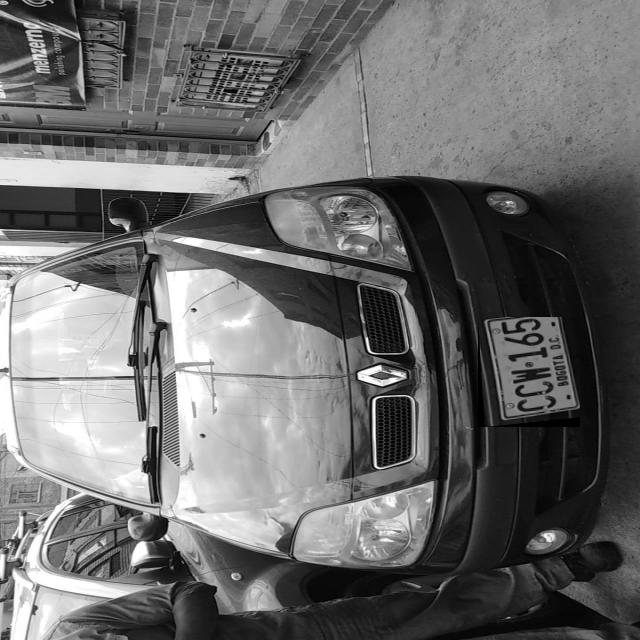plate: (478, 317, 580, 427)
